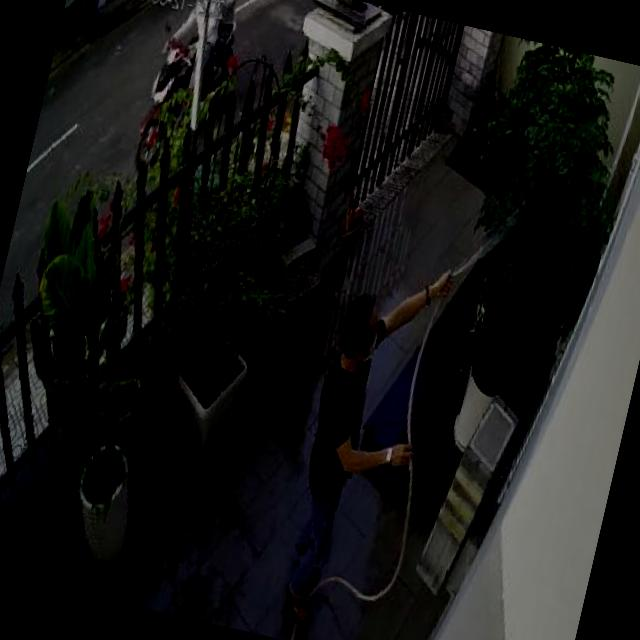Person: (267, 244, 456, 640)
